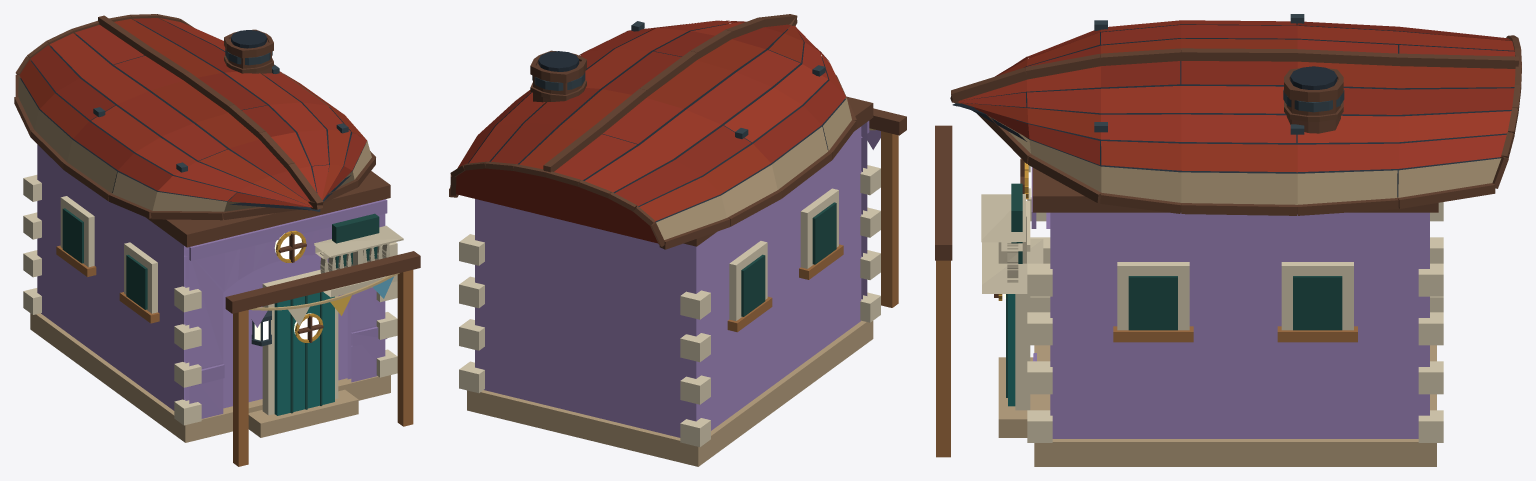
The model's file is boat-shop-small-lilac.glb.
The picture shows the model from 3 angles, left to right: view 1: azimuth 30°, elevation 25°; view 2: azimuth 150°, elevation 25°; view 3: azimuth 270°, elevation 25°; orthographic projection. The views are drawn at different scales.
Visible parts, largest first — view 1: boat-shop-small-lilac; view 2: boat-shop-small-lilac; view 3: boat-shop-small-lilac.
Boxes of the visible parts, x1,y1,x2,y2 form: boat-shop-small-lilac: (14,14,420,466); boat-shop-small-lilac: (449,14,906,466); boat-shop-small-lilac: (935,14,1521,466).
Bounding box in the file's own units: 3.21 × 3.55 × 5.12.
